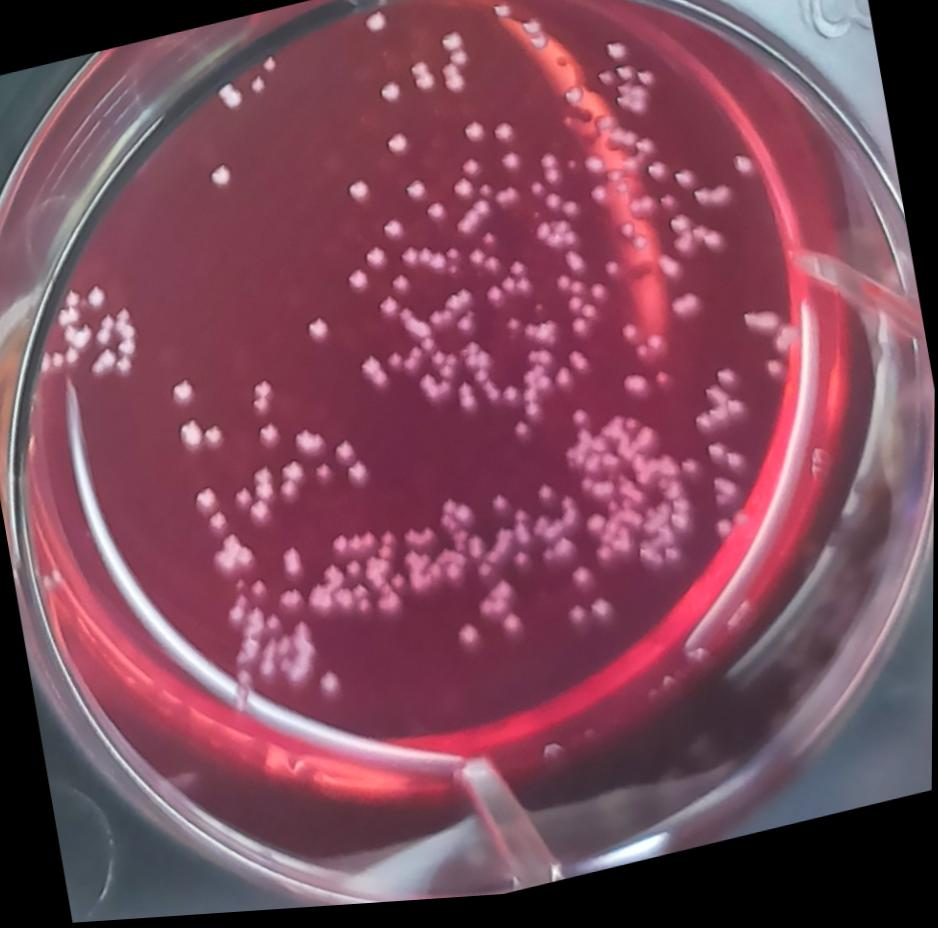staphylo-: (109, 305, 142, 359), (291, 422, 332, 465), (357, 355, 394, 402), (275, 461, 311, 507), (437, 499, 478, 538), (245, 378, 281, 422), (175, 413, 208, 460), (453, 621, 489, 664), (417, 374, 455, 412), (441, 31, 473, 75), (202, 159, 240, 196), (301, 315, 339, 352), (586, 600, 621, 638), (278, 543, 308, 587), (382, 128, 416, 166), (668, 296, 706, 330), (250, 464, 279, 508), (344, 461, 378, 498), (620, 376, 654, 412), (192, 483, 226, 519), (253, 420, 286, 457), (728, 157, 760, 195), (167, 374, 200, 410), (439, 65, 468, 105), (342, 177, 376, 211), (359, 10, 394, 43), (498, 614, 531, 649), (318, 668, 348, 706), (459, 119, 492, 153), (375, 78, 406, 113), (276, 586, 308, 618), (402, 179, 432, 213), (343, 269, 373, 303), (487, 492, 517, 526), (333, 439, 362, 474), (91, 313, 120, 348), (570, 568, 600, 600), (380, 219, 410, 250), (248, 501, 278, 532), (491, 123, 520, 155), (202, 422, 229, 455), (671, 171, 700, 200), (498, 152, 526, 182), (424, 203, 452, 233), (533, 483, 561, 513), (583, 156, 611, 184), (559, 87, 586, 115), (84, 283, 111, 311), (230, 488, 256, 517), (553, 371, 579, 400), (328, 532, 353, 562), (312, 463, 336, 494), (206, 511, 233, 538), (472, 564, 499, 591), (364, 248, 390, 276), (510, 422, 536, 450), (593, 115, 622, 139), (570, 413, 593, 437), (114, 356, 136, 378)
